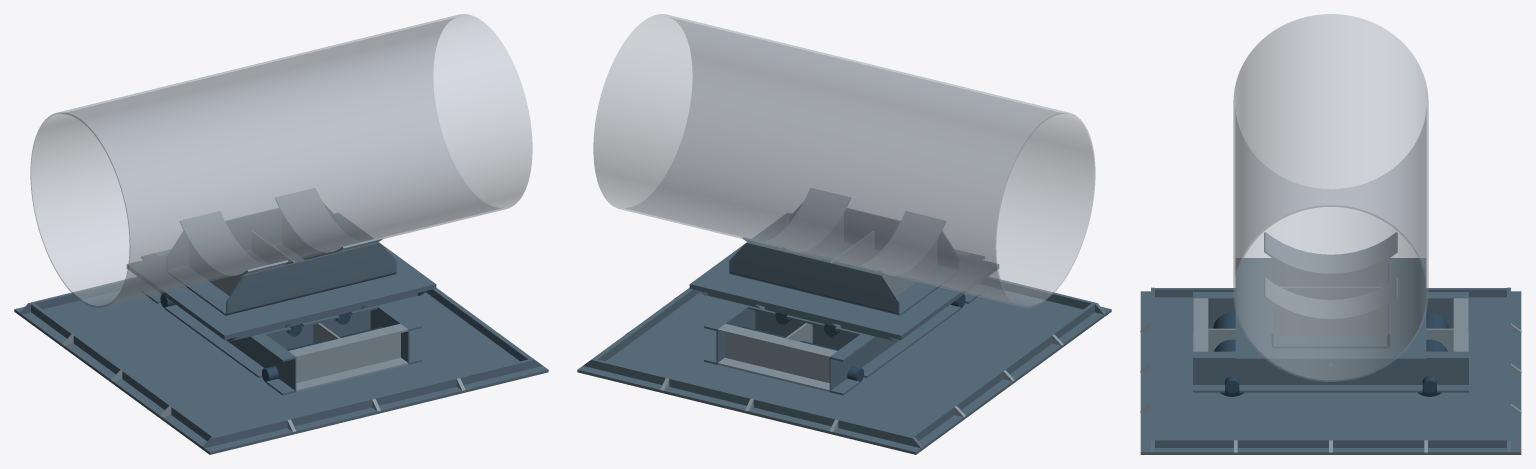
The model's file is TS-628.00.000-21-opora-dn820-hod400.glb.
3 views of the same model, side by side, from view 1: azimuth 30°, elevation 25°; view 2: azimuth 150°, elevation 25°; view 3: azimuth 270°, elevation 25° (orthographic). The views are drawn at different scales.
Parts seen in each view (by area): view 1: truba, plita_niz_osnovanie_0, korpus_skoba_81, plita_verh_osnovanie_70, karetka_rebro_shveller_19, karetka_shveller_prodolnyj_17, plita_niz_polosa2_9, korpus_podushka_87, korpus_podushka_88, plita_niz_polosa3_10, karetka_shveller_poperechnyj_18, karetka_shveller_prodolnyj_20 (+6 smaller); view 2: truba, plita_niz_osnovanie_0, korpus_skoba_81, plita_verh_osnovanie_70, karetka_rebro_shveller_22, karetka_shveller_prodolnyj_17, plita_niz_polosa2_1, korpus_podushka_87, korpus_podushka_88, plita_niz_polosa3_10, karetka_shveller_poperechnyj_21, karetka_shveller_prodolnyj_20 (+6 smaller); view 3: truba, plita_niz_osnovanie_0, plita_verh_osnovanie_70, karetka_shveller_prodolnyj_20, plita_niz_polosa3_2, korpus_podushka_88, korpus_podushka_87, korpus_rebro3_85, korpus_rebro3_83, korpus_skoba_81, karetka_shveller_prodolnyj_17, plita_niz_polosa3_10 (+8 smaller).
Boxes of the visible parts, x1,y1,x2,y2 form: truba: [30, 14, 532, 307]; plita_niz_osnovanie_0: [14, 284, 548, 454]; korpus_skoba_81: [166, 203, 396, 315]; plita_verh_osnovanie_70: [126, 213, 436, 339]; karetka_rebro_shveller_19: [288, 323, 408, 391]; karetka_shveller_prodolnyj_17: [141, 253, 296, 395]; plita_niz_polosa2_9: [203, 358, 542, 448]; korpus_podushka_87: [180, 211, 288, 277]; korpus_podushka_88: [275, 188, 383, 254]; plita_niz_polosa3_10: [31, 303, 214, 441]; karetka_shveller_poperechnyj_18: [264, 306, 377, 349]; karetka_shveller_prodolnyj_20: [370, 302, 421, 364]; truba: [593, 14, 1095, 307]; plita_niz_osnovanie_0: [577, 284, 1111, 454]; korpus_skoba_81: [729, 203, 959, 315]; plita_verh_osnovanie_70: [689, 213, 999, 339]; karetka_rebro_shveller_22: [717, 323, 837, 391]; karetka_shveller_prodolnyj_17: [829, 253, 984, 395]; plita_niz_polosa2_1: [583, 358, 922, 448]; korpus_podushka_87: [837, 211, 945, 277]; korpus_podushka_88: [742, 188, 850, 254]; plita_niz_polosa3_10: [911, 303, 1094, 441]; karetka_shveller_poperechnyj_21: [748, 306, 861, 349]; karetka_shveller_prodolnyj_20: [704, 302, 755, 364]; truba: [1233, 14, 1428, 381]; plita_niz_osnovanie_0: [1140, 291, 1521, 454]; plita_verh_osnovanie_70: [1235, 258, 1426, 362]; karetka_shveller_prodolnyj_20: [1193, 351, 1468, 392]; plita_niz_polosa3_2: [1155, 438, 1506, 447]; korpus_podushka_88: [1264, 277, 1397, 320]; korpus_podushka_87: [1264, 232, 1397, 275]; korpus_rebro3_85: [1273, 305, 1388, 336]; korpus_rebro3_83: [1273, 259, 1388, 286]; korpus_skoba_81: [1271, 258, 1390, 348]; karetka_shveller_prodolnyj_17: [1193, 292, 1468, 332]; plita_niz_polosa3_10: [1155, 288, 1506, 297].
Bounding box in the file's own units: 1900 × 1228 × 1602.
